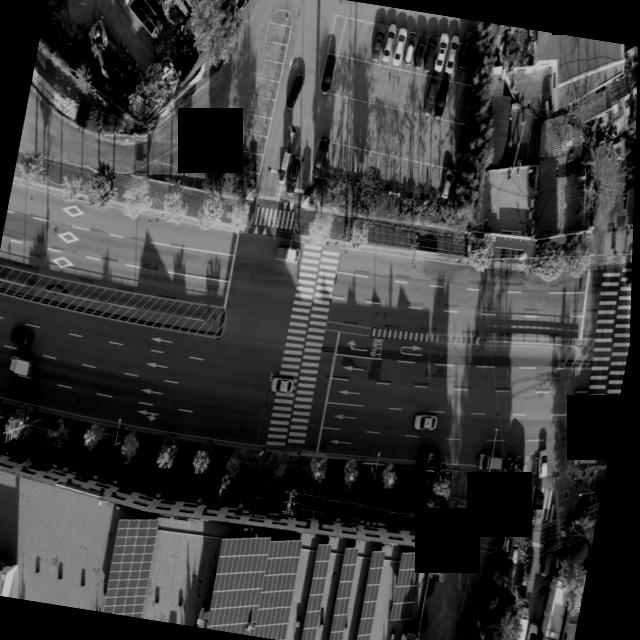car: (520, 542, 541, 587), (284, 73, 305, 114), (312, 139, 331, 181), (543, 536, 560, 580), (435, 77, 453, 117), (508, 458, 532, 488), (433, 32, 450, 74), (425, 30, 441, 74), (284, 158, 302, 196), (320, 53, 337, 93), (457, 30, 474, 70), (423, 78, 440, 118), (479, 449, 505, 474), (444, 35, 460, 74), (392, 27, 408, 66), (272, 375, 301, 396), (370, 22, 386, 59), (383, 23, 398, 61), (572, 394, 598, 414), (402, 34, 417, 68), (458, 619, 481, 640), (417, 412, 441, 432), (414, 34, 429, 66), (440, 170, 455, 200), (513, 532, 527, 564), (538, 451, 555, 476), (14, 328, 35, 348), (450, 516, 463, 548), (529, 622, 544, 640)
small_truck: (531, 492, 552, 538), (518, 598, 537, 640), (11, 354, 38, 377), (417, 446, 444, 468), (275, 243, 302, 263)
